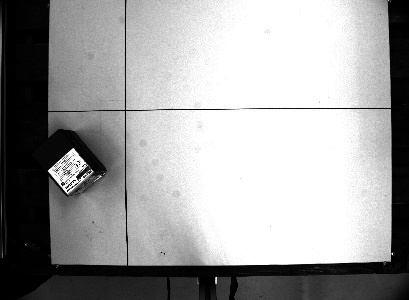b4: (29, 126, 108, 198)
